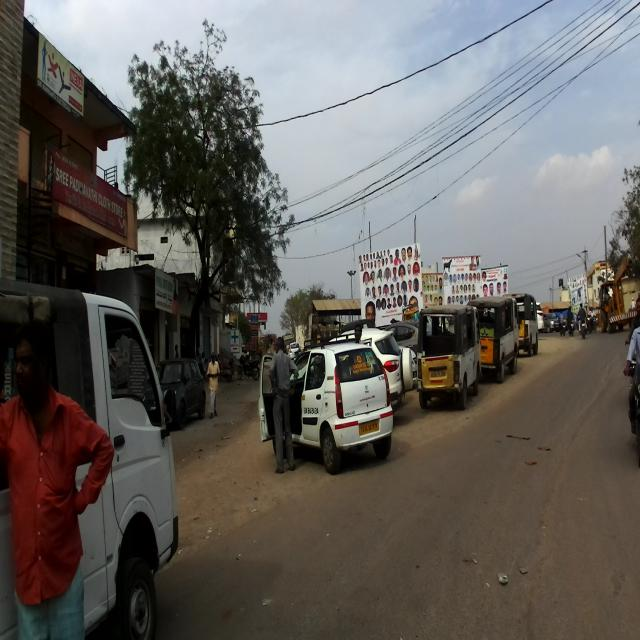car ahead at: (256, 328, 394, 477), (417, 305, 476, 415), (480, 299, 518, 374)
person ahead at: (2, 324, 104, 640)
